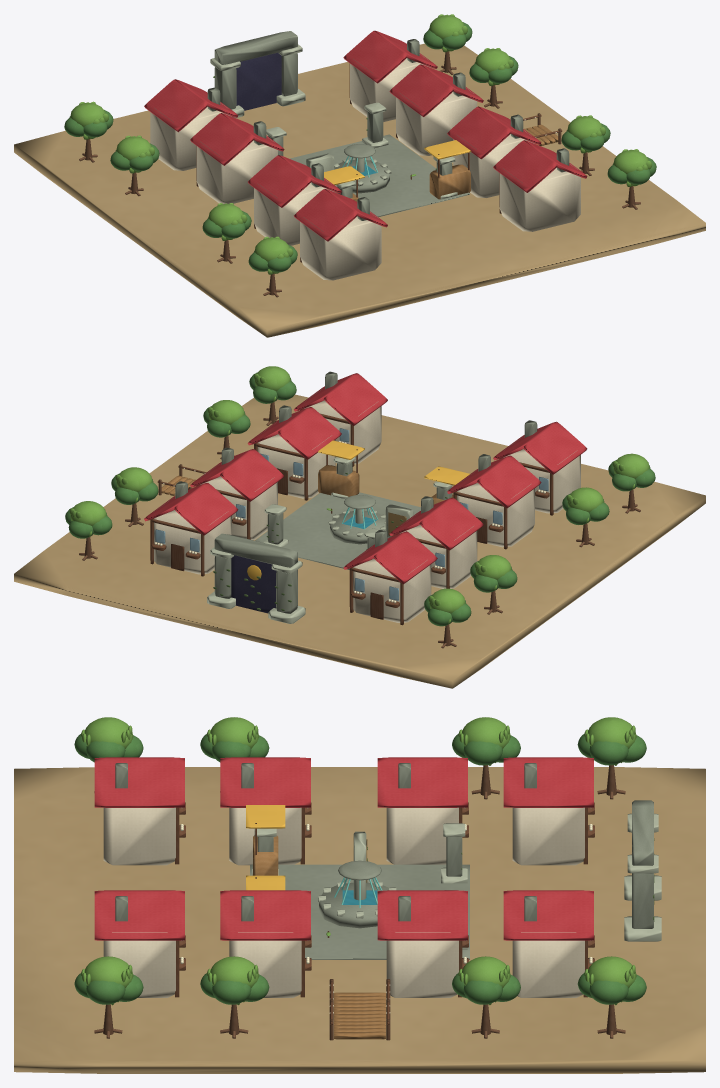
The model's file is lumenfall_restored.glb.
3 renders of one model, top to bottom at view 1: azimuth 30°, elevation 25°; view 2: azimuth 150°, elevation 25°; view 3: azimuth 270°, elevation 25°, orthographic. The views are drawn at different scales.
Visible parts, largest first — view 1: lumenfall_restored_StaticBatch; view 2: lumenfall_restored_StaticBatch; view 3: lumenfall_restored_StaticBatch.
Boxes of the visible parts, <box> form: lumenfall_restored_StaticBatch: <box>14,14,705,337</box>; lumenfall_restored_StaticBatch: <box>14,366,705,688</box>; lumenfall_restored_StaticBatch: <box>14,717,705,1073</box>.
Size of the model in its own units: 22 by 3.72 by 22.
1 material, 1 textured.
